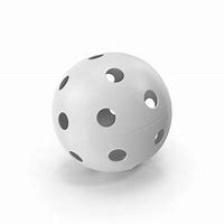Sports-Ball: (51, 51, 174, 176)
